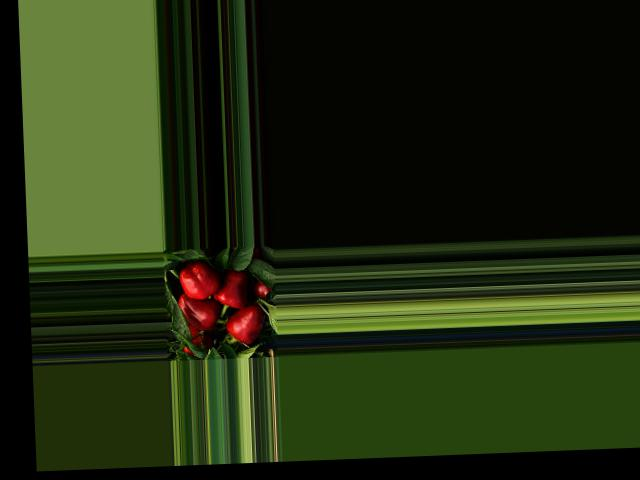bell_pepper: (175, 260, 229, 300)
